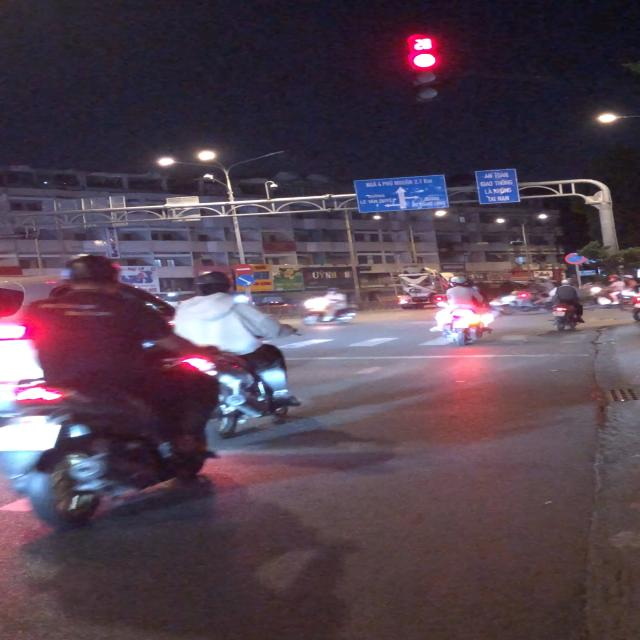Bien bao cam di nguoc chieu: (232, 263, 255, 274)
Bien bao huong phai di vong chuong ngai vat: (235, 274, 257, 286)
